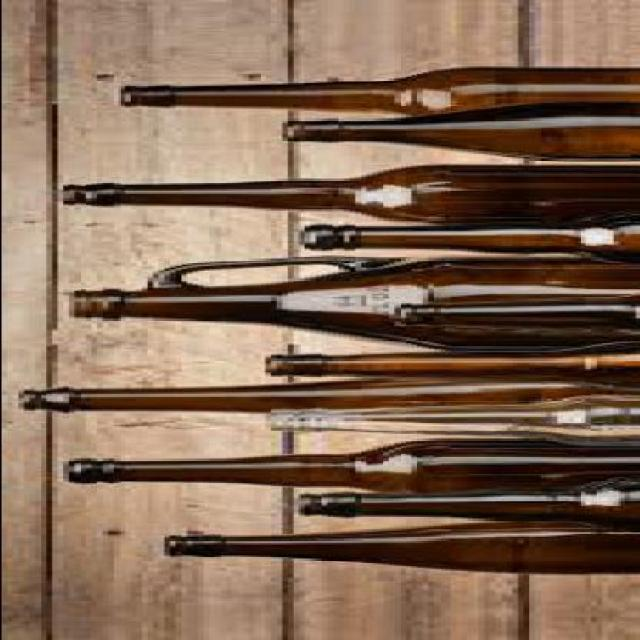GLASS: (68, 255, 634, 351), (50, 166, 635, 226), (56, 439, 635, 495), (11, 376, 634, 416), (158, 524, 634, 574), (118, 68, 634, 114), (280, 103, 634, 162), (258, 395, 634, 448), (286, 478, 634, 532), (258, 344, 634, 390), (298, 216, 634, 264), (388, 293, 634, 336)
